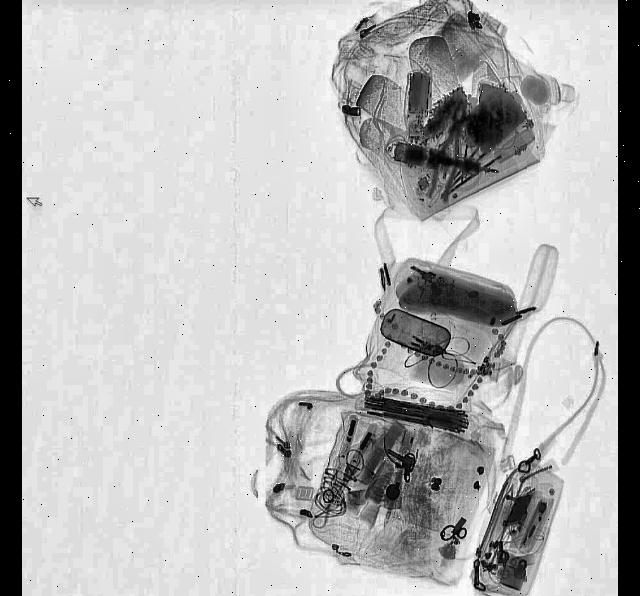Pliers: (424, 97, 474, 205)
